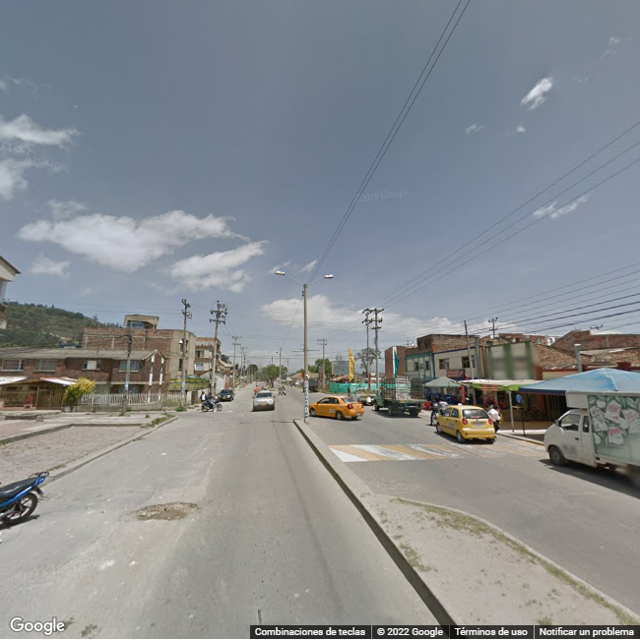D40: (131, 497, 202, 522)
